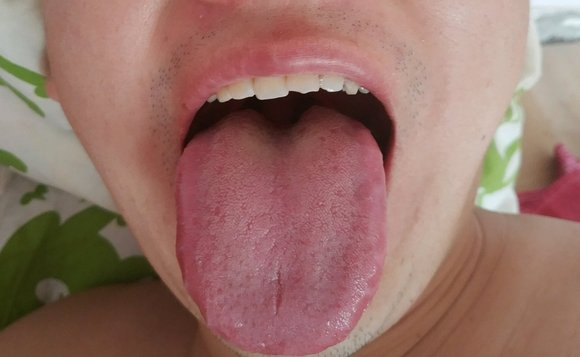hongshe: (176, 105, 387, 357)
liewenshe: (272, 266, 285, 314)
shenquao: (232, 105, 327, 142)
